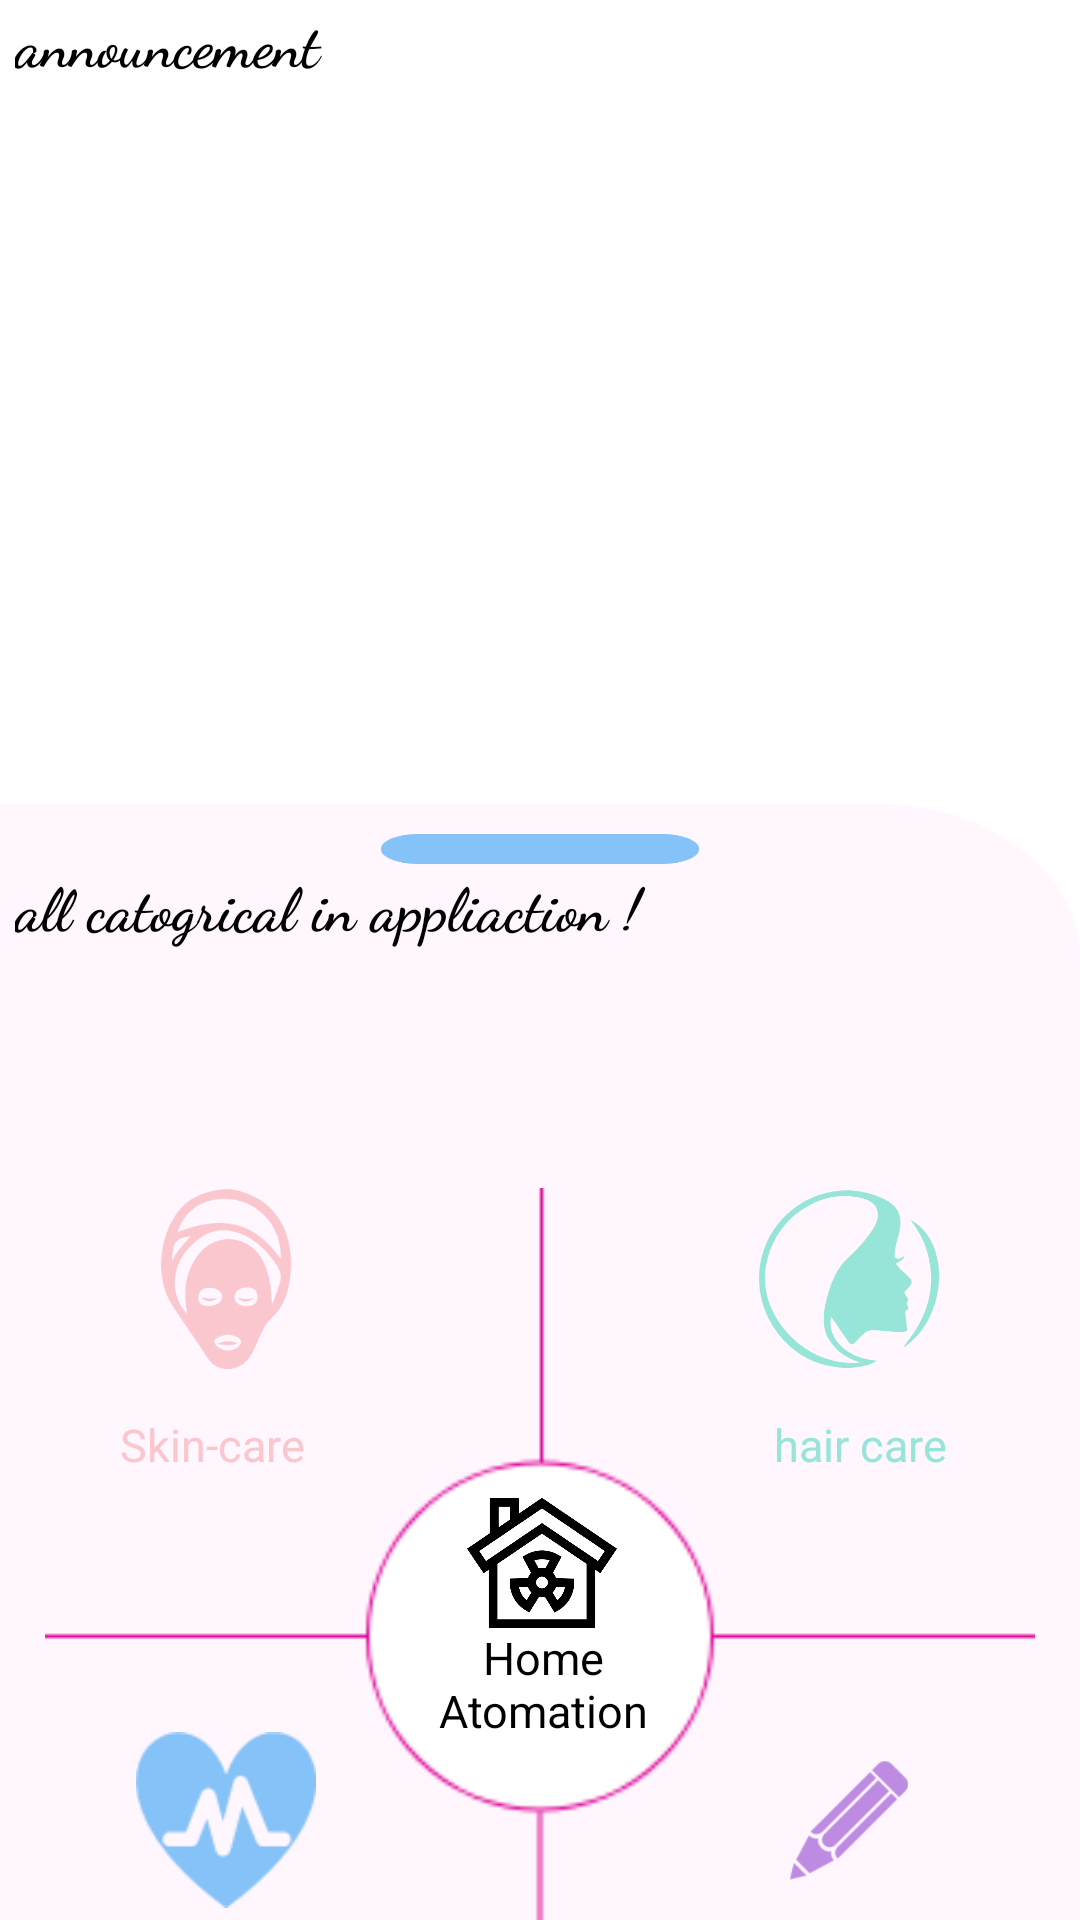

Icon bounding boxes for this 1080×1920 phone screenshot, format [left=x1, top=y1, right=x2, bottom=y2]:
sport: [left=136, top=1732, right=316, bottom=1908]
